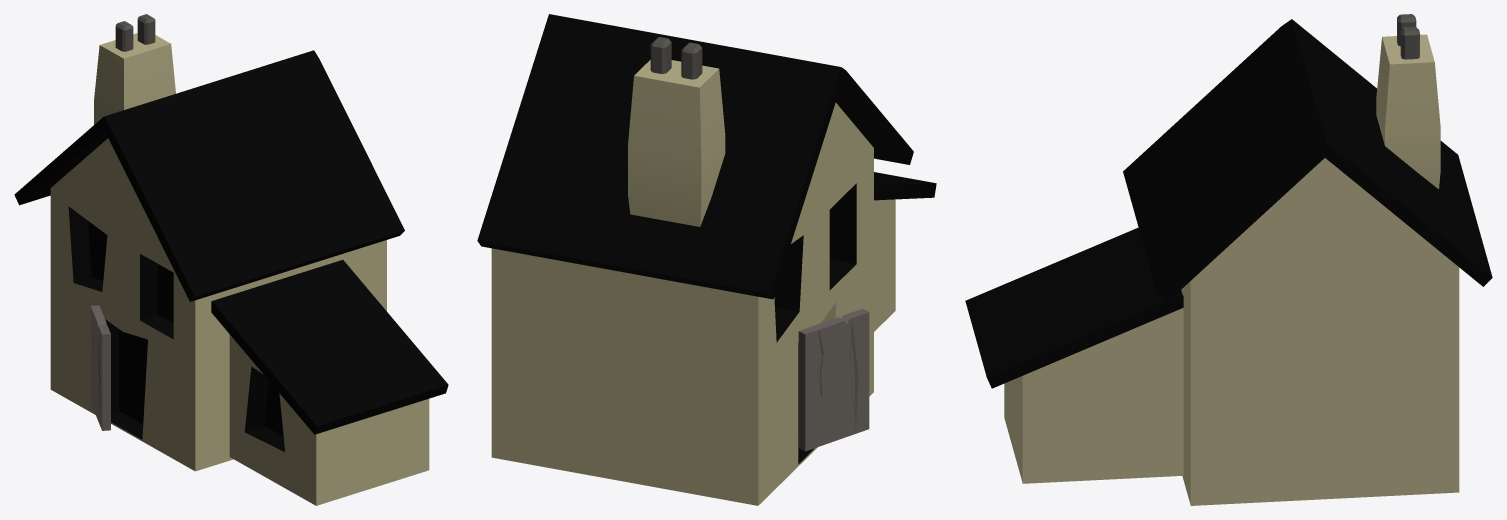
The model's file is House.fbx.
The picture shows the model from 3 angles, left to right: view 1: azimuth 30°, elevation 25°; view 2: azimuth 150°, elevation 25°; view 3: azimuth 270°, elevation 25°; orthographic projection. The views are drawn at different scales.
Parts seen in each view (by area): view 1: pBuilding; view 2: pBuilding; view 3: pBuilding.
Boxes of the visible parts, box(x1,y1,x2,y2) form: pBuilding: box(14, 14, 448, 505); pBuilding: box(477, 14, 936, 505); pBuilding: box(965, 14, 1492, 505).
Size of the model in its own units: 31.82 by 42.34 by 50.71.
